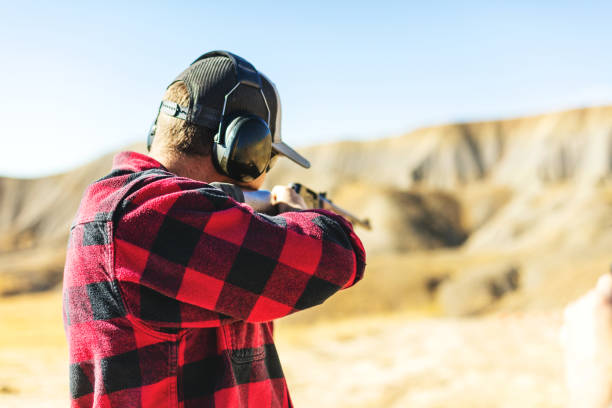gun: (288, 182, 372, 231)
